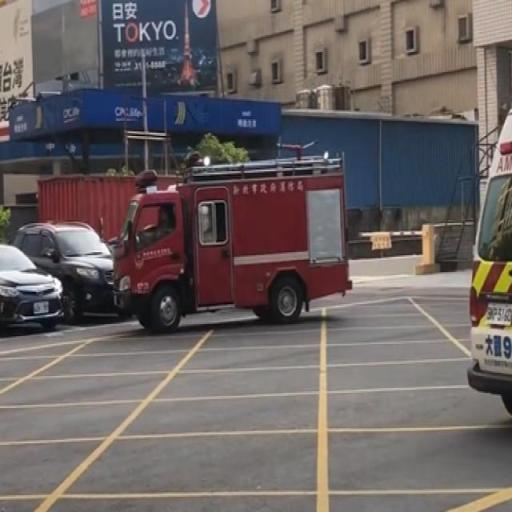fire truck: (114, 145, 351, 332)
